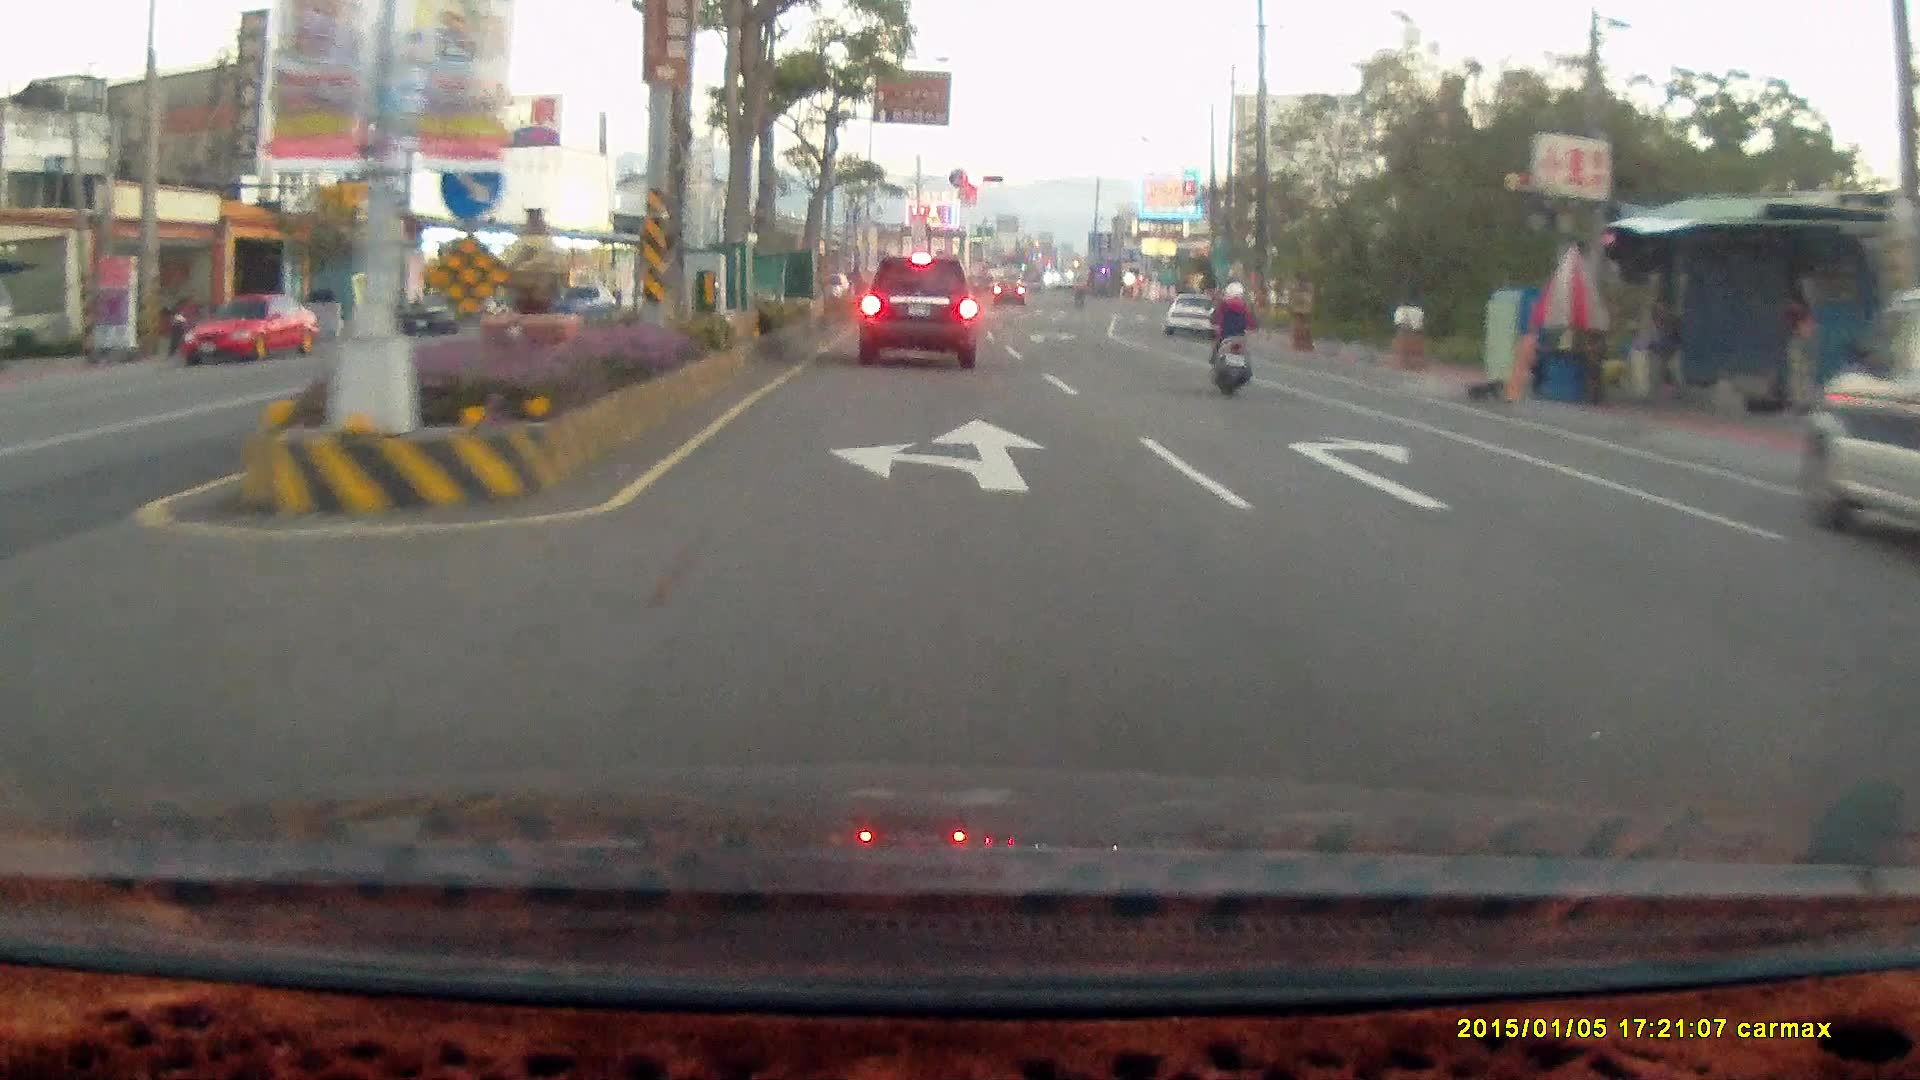rider: (1205, 280, 1258, 399)
vehicle: (1802, 275, 1920, 570), (858, 255, 974, 369), (178, 291, 320, 364), (1896, 493, 1920, 836), (1883, 528, 1920, 690), (405, 293, 507, 341), (1164, 293, 1224, 343)
